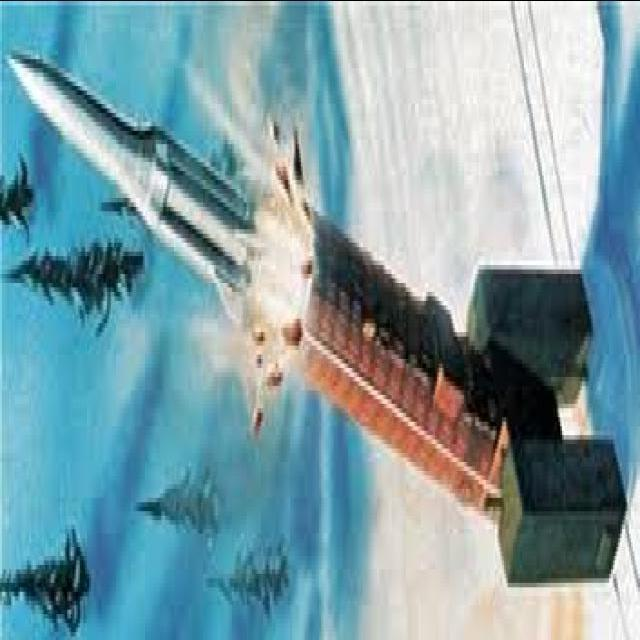Missile: (0, 0, 265, 325)
